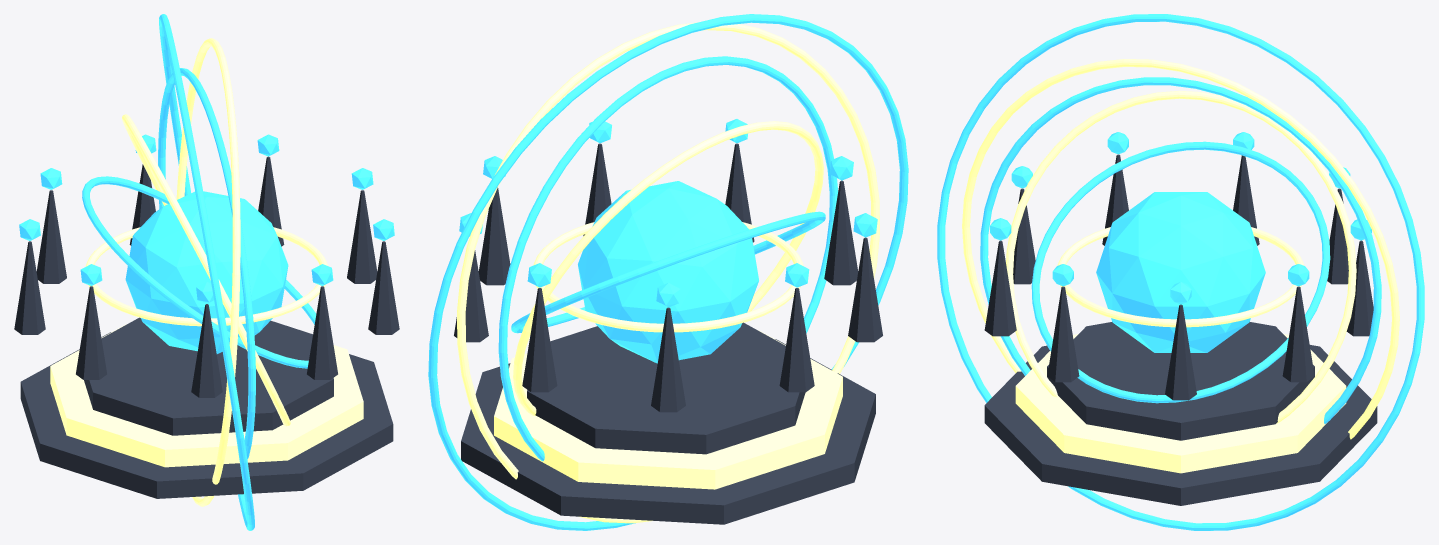
The model's file is gpu-blender-v42.glb.
The picture shows the model from 3 angles, left to right: view 1: azimuth 30°, elevation 25°; view 2: azimuth 150°, elevation 25°; view 3: azimuth 270°, elevation 25°; orthographic projection. The views are drawn at different scales.
Parts seen in each view (by area): view 1: Cylinder.002, Cylinder, SovereignCore_subsweep-lead-scanner, Cylinder.001, Torus.005, Torus.004, Torus.003, Torus.001, Torus.002, Torus, Cone.006, Cone.004 (+7 smaller); view 2: Cylinder.002, SovereignCore_subsweep-lead-scanner, Cylinder, Cylinder.001, Torus.005, Torus.004, Torus.003, Torus.002, Torus.001, Torus, Cone.003, Cone.005 (+7 smaller); view 3: SovereignCore_subsweep-lead-scanner, Cylinder.002, Cylinder, Cylinder.001, Torus.005, Torus.004, Torus.003, Torus.002, Torus.001, Torus, Cone, Cone.001 (+7 smaller).
Boxes of the visible parts, left/top/right/bottom form: Cylinder.002: left=84, top=317, right=333, bottom=435; Cylinder: left=20, top=332, right=393, bottom=498; SovereignCore_subsweep-lead-scanner: left=125, top=191, right=288, bottom=353; Cylinder.001: left=50, top=324, right=363, bottom=467; Torus.005: left=159, top=14, right=254, bottom=530; Torus.004: left=176, top=38, right=240, bottom=506; Torus.003: left=158, top=68, right=255, bottom=459; Torus.001: left=82, top=176, right=316, bottom=368; Torus.002: left=122, top=114, right=290, bottom=426; Torus: left=85, top=227, right=327, bottom=326; Cone.006: left=191, top=304, right=222, bottom=397; Cone.004: left=14, top=241, right=45, bottom=334; Cylinder.002: left=527, top=322, right=805, bottom=454; SovereignCore_subsweep-lead-scanner: left=578, top=181, right=758, bottom=363; Cylinder: left=461, top=339, right=875, bottom=524; Cylinder.001: left=494, top=330, right=842, bottom=489; Torus.005: left=428, top=14, right=908, bottom=530; Torus.004: left=457, top=22, right=879, bottom=523; Torus.003: left=498, top=56, right=838, bottom=461; Torus.002: left=513, top=121, right=823, bottom=415; Torus.001: left=511, top=211, right=825, bottom=333; Torus: left=533, top=222, right=803, bottom=332; Cone.003: left=651, top=307, right=685, bottom=412; Cone.005: left=848, top=237, right=882, bottom=342; SovereignCore_subsweep-lead-scanner: left=1096, top=192, right=1265, bottom=352; Cylinder.002: left=1047, top=322, right=1314, bottom=440; Cylinder: left=984, top=345, right=1377, bottom=505; Cylinder.001: left=1015, top=334, right=1346, bottom=473; Torus.005: left=937, top=14, right=1424, bottom=530; Torus.004: left=962, top=59, right=1399, bottom=439; Torus.003: left=980, top=77, right=1381, bottom=423; Torus.002: left=1006, top=90, right=1356, bottom=423; Torus.001: left=1031, top=141, right=1330, bottom=403; Torus: left=1057, top=227, right=1304, bottom=327; Cone: left=1165, top=304, right=1196, bottom=400; Cone.001: left=1282, top=286, right=1314, bottom=382.
Size of the model in its own units: 4.41 by 5.93 by 5.46.
